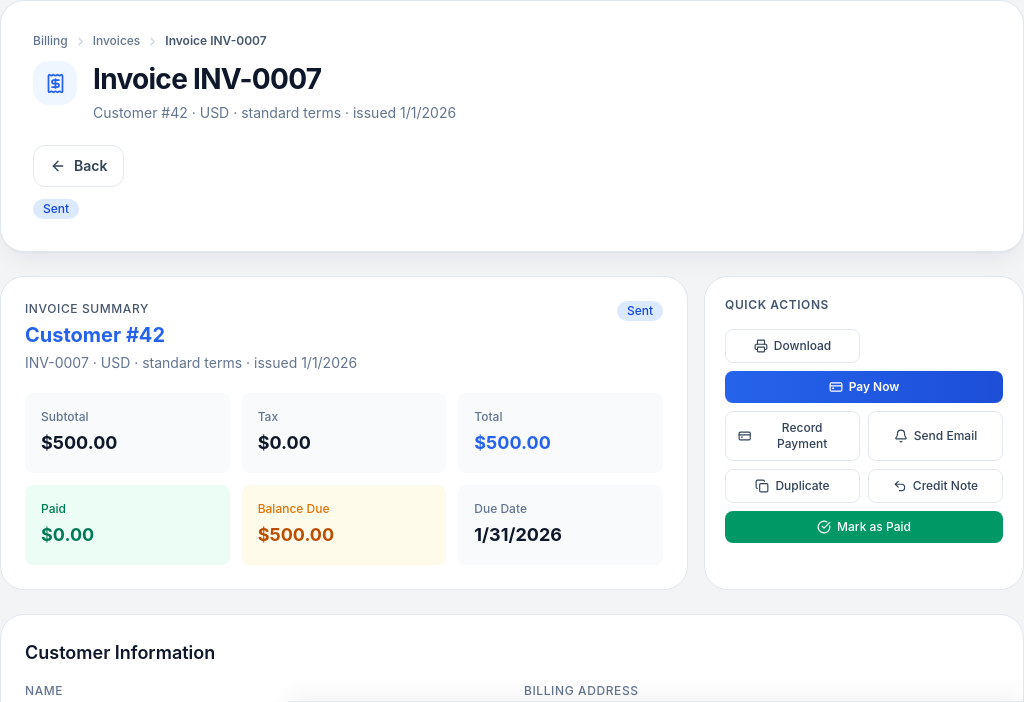
Test case: InvoiceDetailPage — Duplicate Invoice › shows a plain error banner (not the limit panel) for a non-entitlement duplicate failure, and stays open
Expected: the heading "Invoice INV-0007" is shown, left=93, top=62, right=321, bottom=96
Click the button with aria-label "Duplicate invoice" at (792, 486), box left=725, top=469, right=860, bottom=503
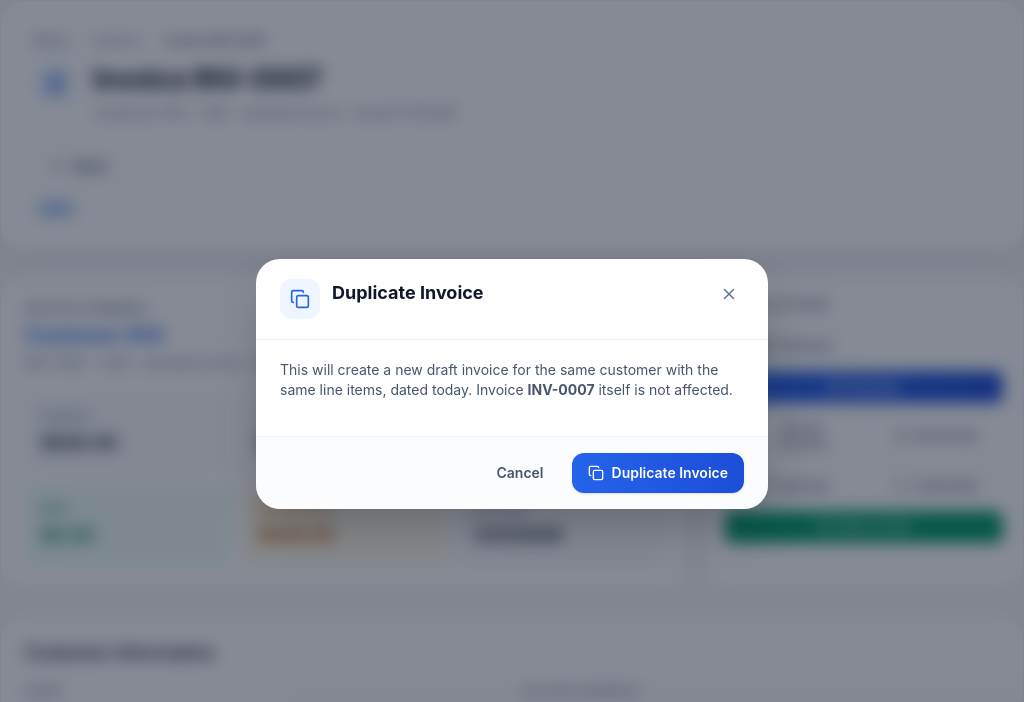
Click the button "Duplicate Invoice" at (658, 473), box left=572, top=453, right=744, bottom=493
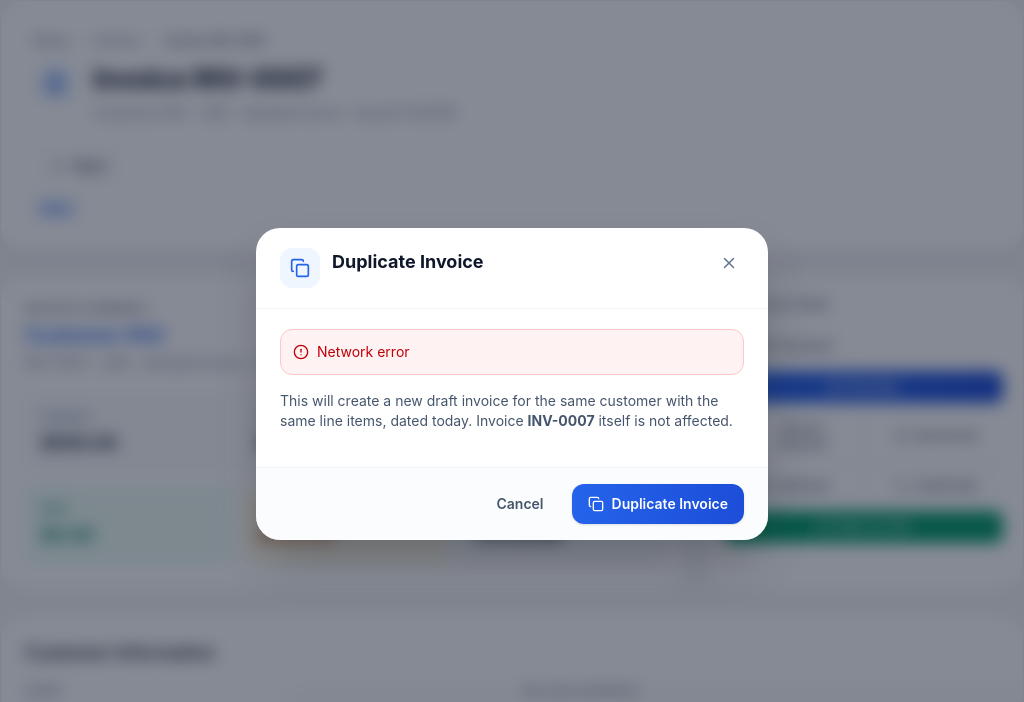
Now the text "Network error" is shown, box left=280, top=329, right=744, bottom=375
